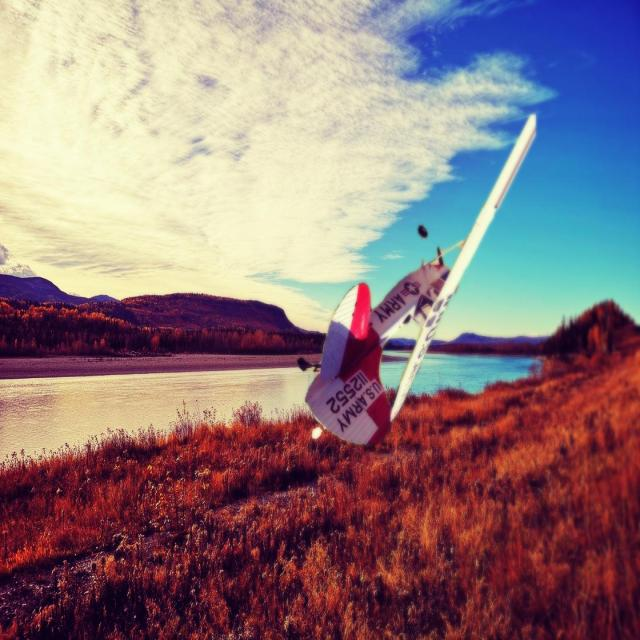airplane: (299, 112, 537, 446)
